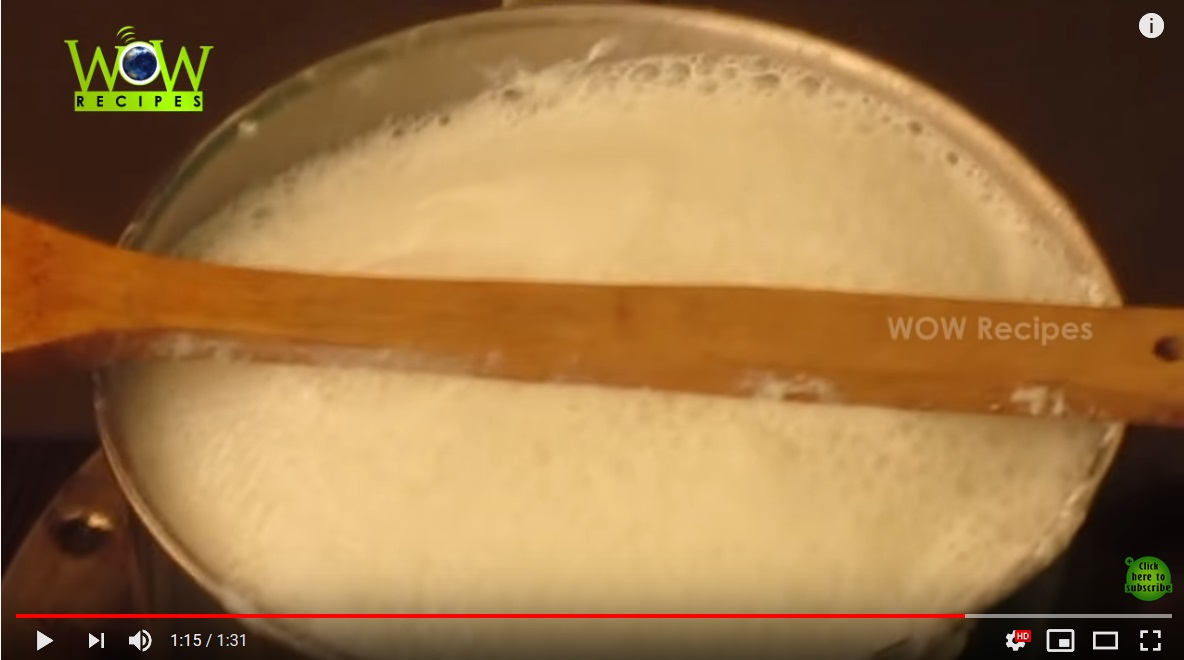Boiled: (94, 58, 1096, 596)
